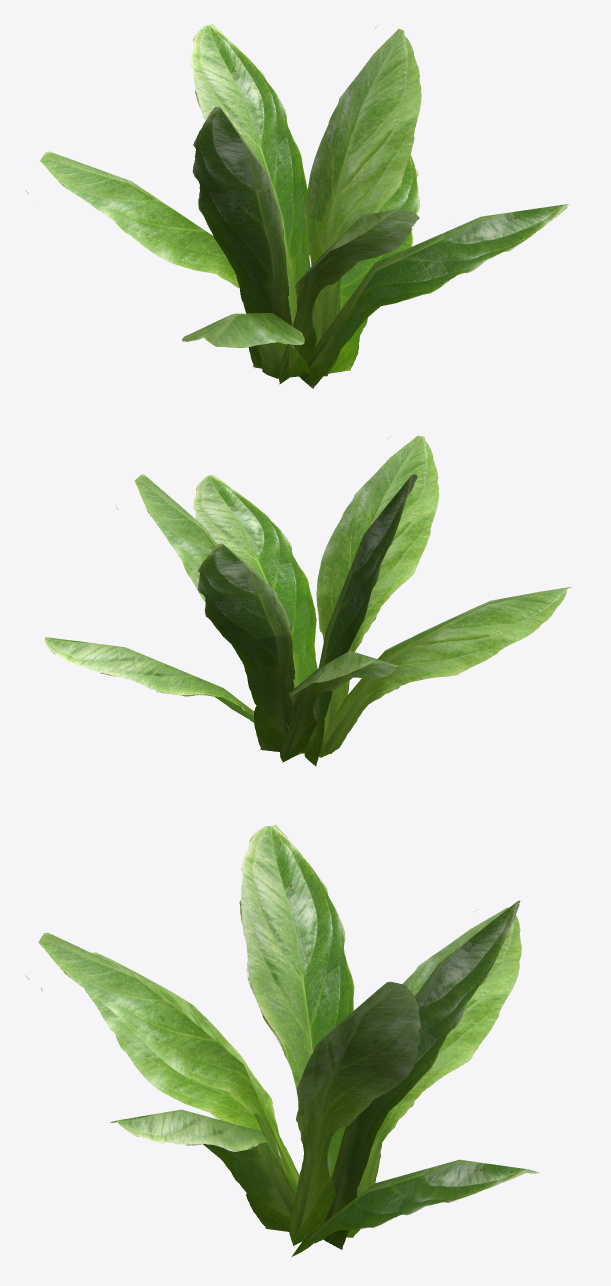
The model's file is plant b.dae.
3 renders of one model, top to bottom at view 1: azimuth 30°, elevation 25°; view 2: azimuth 150°, elevation 25°; view 3: azimuth 270°, elevation 25°, orthographic. The views are drawn at different scales.
Visible parts, largest first — view 1: plant_b_Group2_Form0, plant_b_TwoSided; view 2: plant_b_Group2_Form0, plant_b_TwoSided; view 3: plant_b_TwoSided, plant_b_Group2_Form0.
Part boxes in pixels (x1,y1,x2,y2): plant_b_Group2_Form0: [41, 24, 568, 388]; plant_b_TwoSided: [25, 24, 566, 384]; plant_b_Group2_Form0: [44, 436, 570, 762]; plant_b_TwoSided: [44, 439, 566, 766]; plant_b_TwoSided: [97, 825, 527, 1255]; plant_b_Group2_Form0: [25, 825, 539, 1257].
Size of the model in its own units: 63.95 by 39.75 by 59.29.
1 material, 1 textured.
